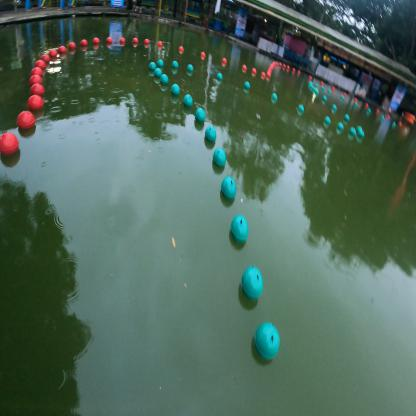green_buoy: (252, 320, 281, 364), (240, 263, 265, 304), (230, 213, 249, 247), (220, 176, 237, 204), (212, 148, 226, 171), (195, 107, 206, 126), (182, 94, 194, 111), (205, 127, 217, 144), (170, 83, 180, 99), (356, 124, 365, 138), (160, 74, 169, 86), (156, 58, 164, 70), (148, 60, 156, 72), (154, 68, 162, 80), (186, 63, 194, 74), (297, 103, 305, 114), (171, 60, 179, 70), (270, 93, 278, 103), (244, 80, 251, 91), (337, 121, 344, 132), (323, 116, 331, 125), (216, 72, 223, 82), (349, 126, 356, 136), (331, 104, 337, 113), (344, 113, 350, 122), (321, 95, 327, 103)
red_buoy: (0, 130, 20, 156), (16, 110, 36, 130), (28, 94, 44, 111), (30, 84, 44, 98), (29, 74, 42, 88), (30, 67, 42, 78), (35, 60, 46, 70), (40, 54, 50, 64), (80, 38, 88, 47), (92, 37, 100, 45), (68, 42, 76, 50), (58, 46, 66, 54), (48, 50, 57, 57), (132, 38, 139, 46), (119, 36, 125, 45), (222, 57, 228, 66), (252, 66, 257, 76), (144, 38, 150, 46), (178, 45, 184, 53), (200, 51, 206, 59), (158, 40, 163, 49), (107, 37, 112, 45), (242, 64, 247, 72), (261, 72, 266, 79)
